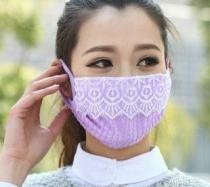face_mask: (68, 8, 170, 142)
